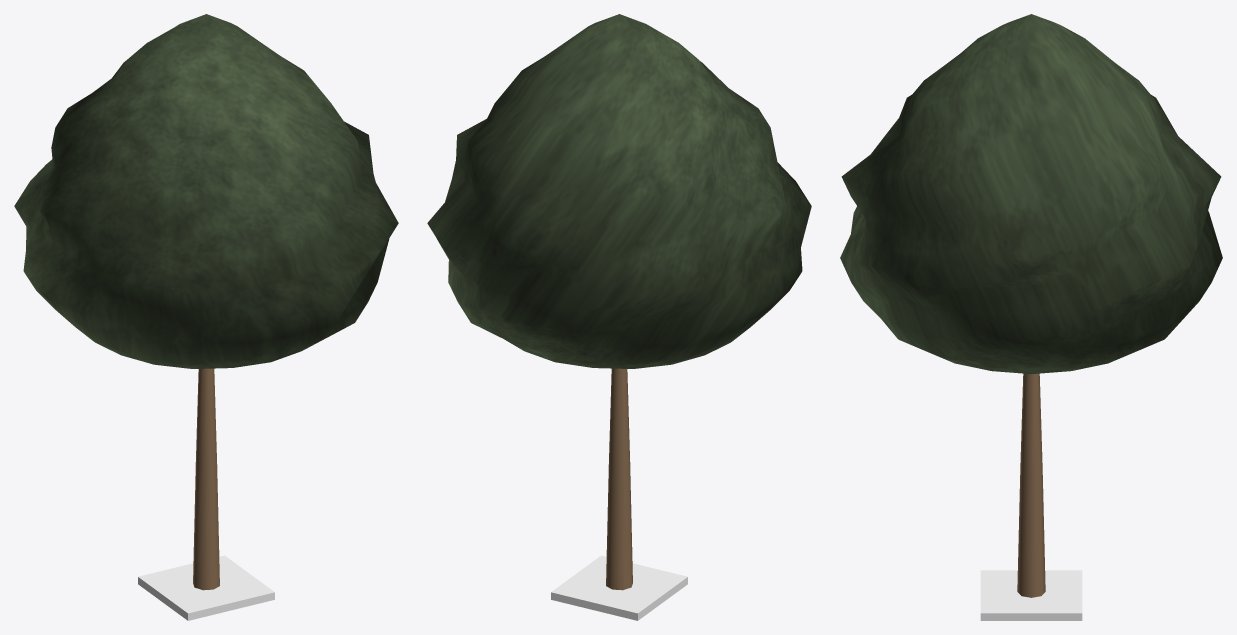
File: tree.fbx
3 views of the same model, side by side, from view 1: azimuth 30°, elevation 25°; view 2: azimuth 150°, elevation 25°; view 3: azimuth 270°, elevation 25° (orthographic).
Visible parts, largest first — view 1: tree.007; view 2: tree.007; view 3: tree.007.
Boxes of the visible parts, x1=… form: tree.007: x1=14, y1=14, x2=398, y2=620; tree.007: x1=427, y1=14, x2=811, y2=620; tree.007: x1=840, y1=14, x2=1222, y2=620.
Size of the model in its own units: 3.2 by 5.4 by 3.2.
